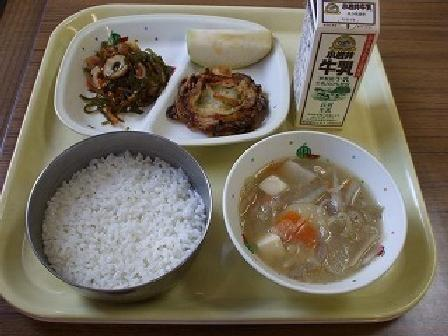Apple: (179, 16, 282, 70)
Milk: (287, 5, 380, 124)
Rice: (29, 126, 202, 300)
Soups: (231, 133, 395, 281)
casserole with meat and vegetables: (168, 67, 273, 136)
salad with sauce: (74, 29, 172, 115)
